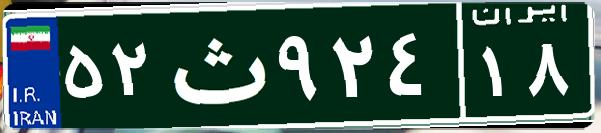1: (475, 38, 525, 113)
2: (330, 28, 385, 110), (110, 28, 158, 105)
4: (385, 28, 445, 110)
5: (57, 26, 110, 107)
8: (525, 38, 570, 115)
9: (273, 28, 330, 110)
ث: (158, 15, 273, 115)
